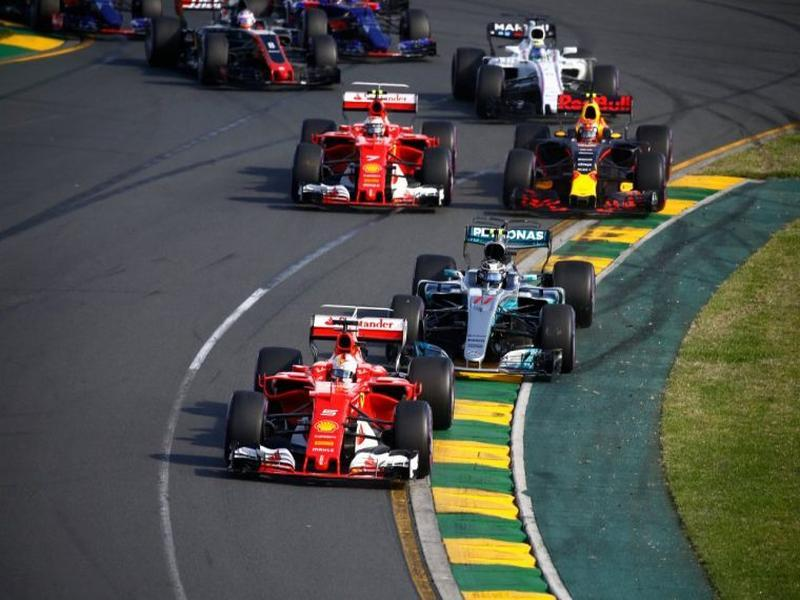racecar: (228, 315, 456, 487), (405, 217, 604, 372), (297, 81, 459, 218), (517, 95, 674, 216), (144, 1, 345, 88), (451, 14, 623, 106)
